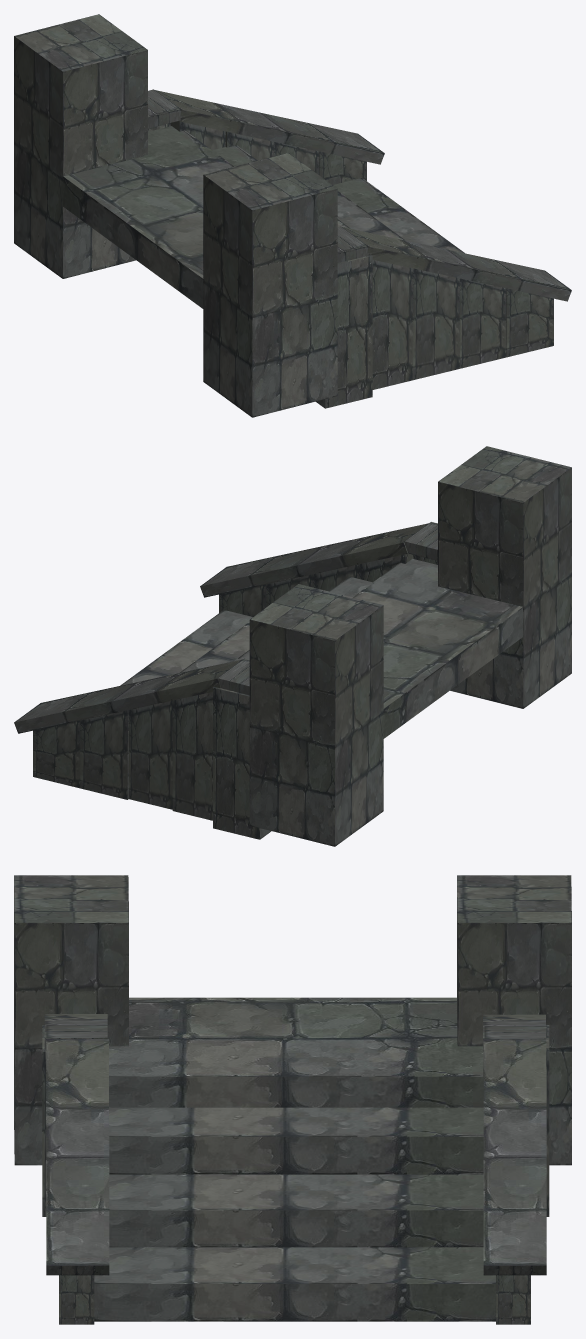
The model's file is Stairup end pillar.fbx.
The picture shows the model from 3 angles, top to bottom: view 1: azimuth 30°, elevation 25°; view 2: azimuth 150°, elevation 25°; view 3: azimuth 270°, elevation 25°; orthographic projection. The views are drawn at different scales.
Parts seen in each view (by area): view 1: Cube.1368; view 2: Cube.1368; view 3: Cube.1368.
Boxes of the visible parts, left/top/right/bottom form: Cube.1368: left=14, top=14, right=571, bottom=417; Cube.1368: left=14, top=446, right=571, bottom=846; Cube.1368: left=14, top=875, right=571, bottom=1324.
Size of the model in its own units: 3.48 by 2.28 by 4.32.
Materials: 4 (4 with a texture image).
